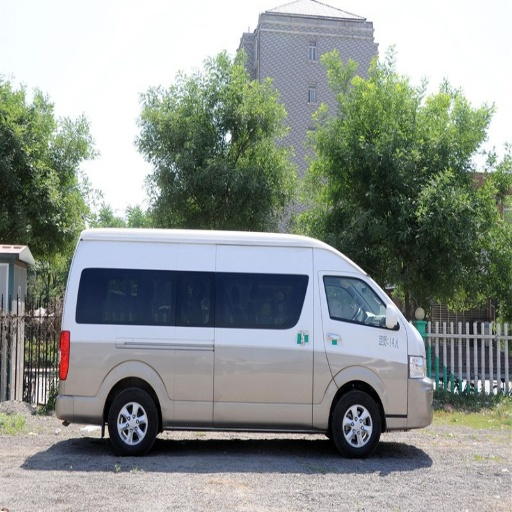back_right_door: (322, 271, 381, 328)
trunk: (58, 325, 204, 421), (311, 341, 426, 423)
